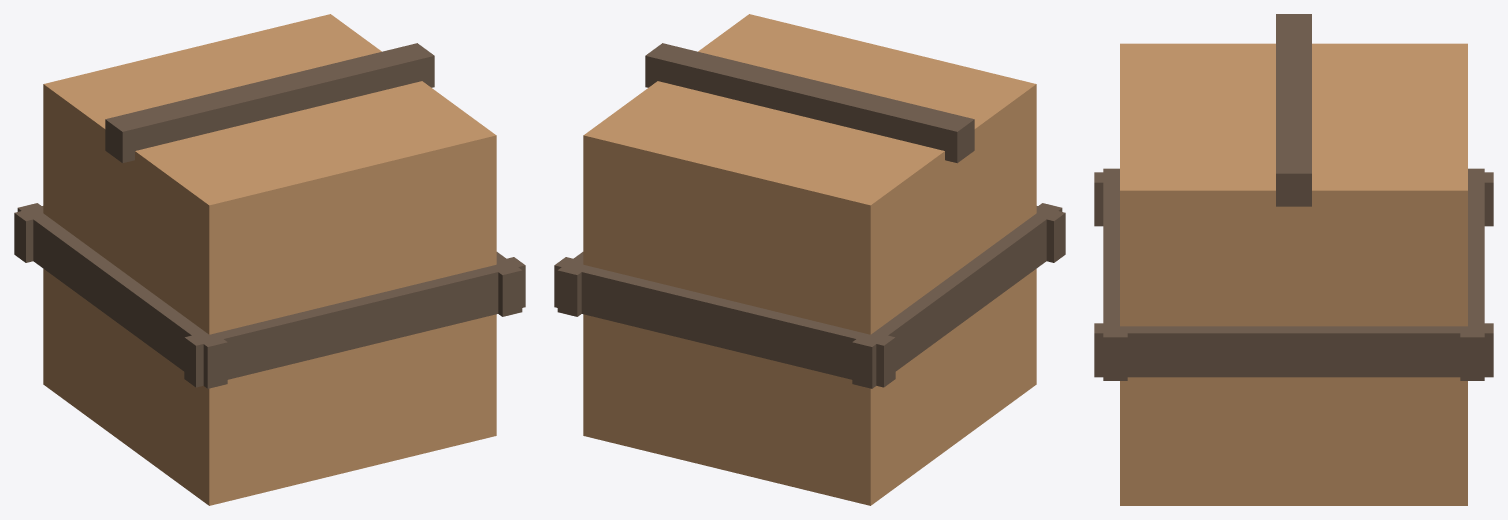
The model's file is crate_prop.gltf.
The picture shows the model from 3 angles, left to right: view 1: azimuth 30°, elevation 25°; view 2: azimuth 150°, elevation 25°; view 3: azimuth 270°, elevation 25°; orthographic projection. The views are drawn at different scales.
Visible parts, largest first — view 1: CrateBody, CrateBandFront, CrateTopBand, CrateBandLeft, CrateBandRight, CrateBandBack; view 2: CrateBody, CrateBandBack, CrateTopBand, CrateBandLeft, CrateBandRight, CrateBandFront; view 3: CrateBody, CrateBandRight, CrateTopBand, CrateBandFront, CrateBandBack, CrateBandLeft.
Part boxes in pixels (x1,y1,x2,y2): CrateBody: (43, 14, 496, 505); CrateBandFront: (184, 257, 525, 387); CrateTopBand: (105, 43, 434, 163); CrateBandLeft: (17, 203, 227, 388); CrateBandRight: (490, 252, 522, 316); CrateBandBack: (14, 206, 46, 262); CrateBody: (583, 14, 1036, 505); CrateBandBack: (554, 257, 895, 387); CrateTopBand: (645, 43, 974, 163); CrateBandLeft: (852, 203, 1062, 388); CrateBandRight: (557, 252, 589, 316); CrateBandFront: (1033, 206, 1065, 262); CrateBody: (1120, 43, 1467, 505); CrateBandRight: (1094, 323, 1493, 377); CrateTopBand: (1276, 14, 1311, 206); CrateBandFront: (1103, 168, 1127, 380); CrateBandBack: (1460, 168, 1484, 380); CrateBandLeft: (1094, 172, 1493, 226).
Size of the model in its own units: 1.32 by 1.24 by 1.32.
